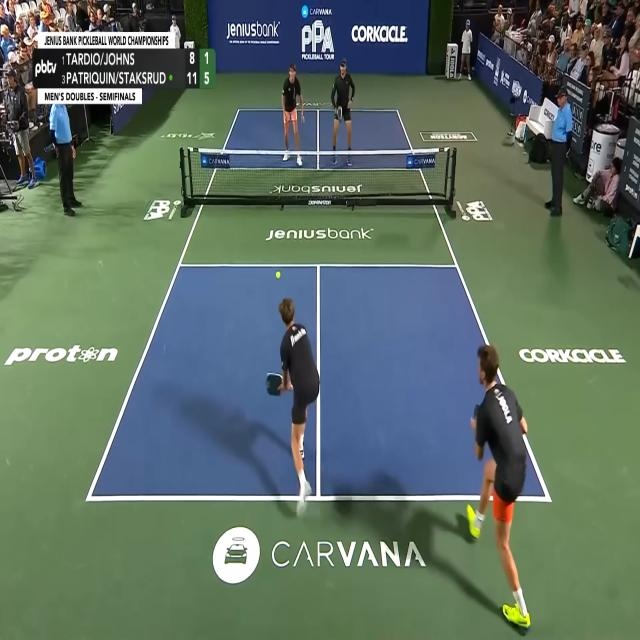ball: (275, 270, 281, 280)
